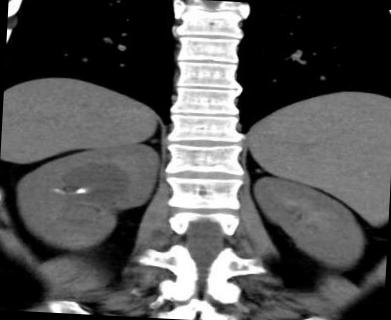Tas_Var: (72, 186, 88, 197), (52, 186, 66, 196)
